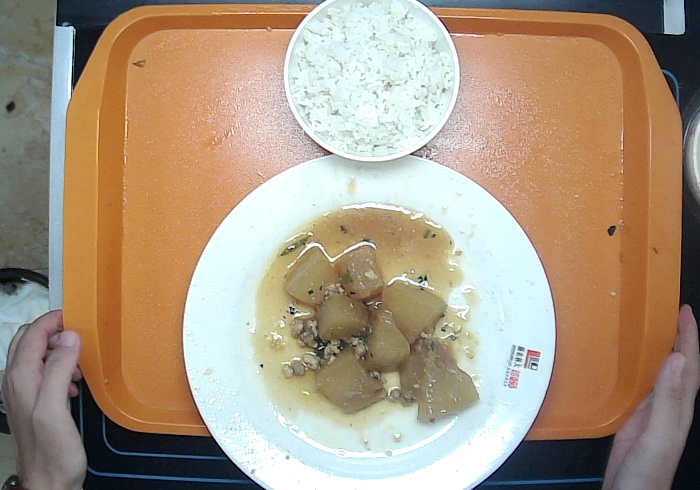ZNLD-Da_Yuan_Pan: (183, 150, 559, 490)
ZNLD-Fan_Wan: (283, 1, 464, 162)
